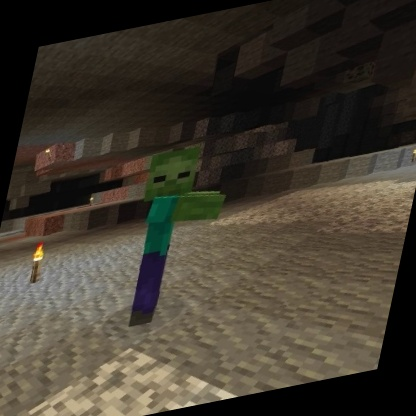zombie: (109, 133, 244, 335)
